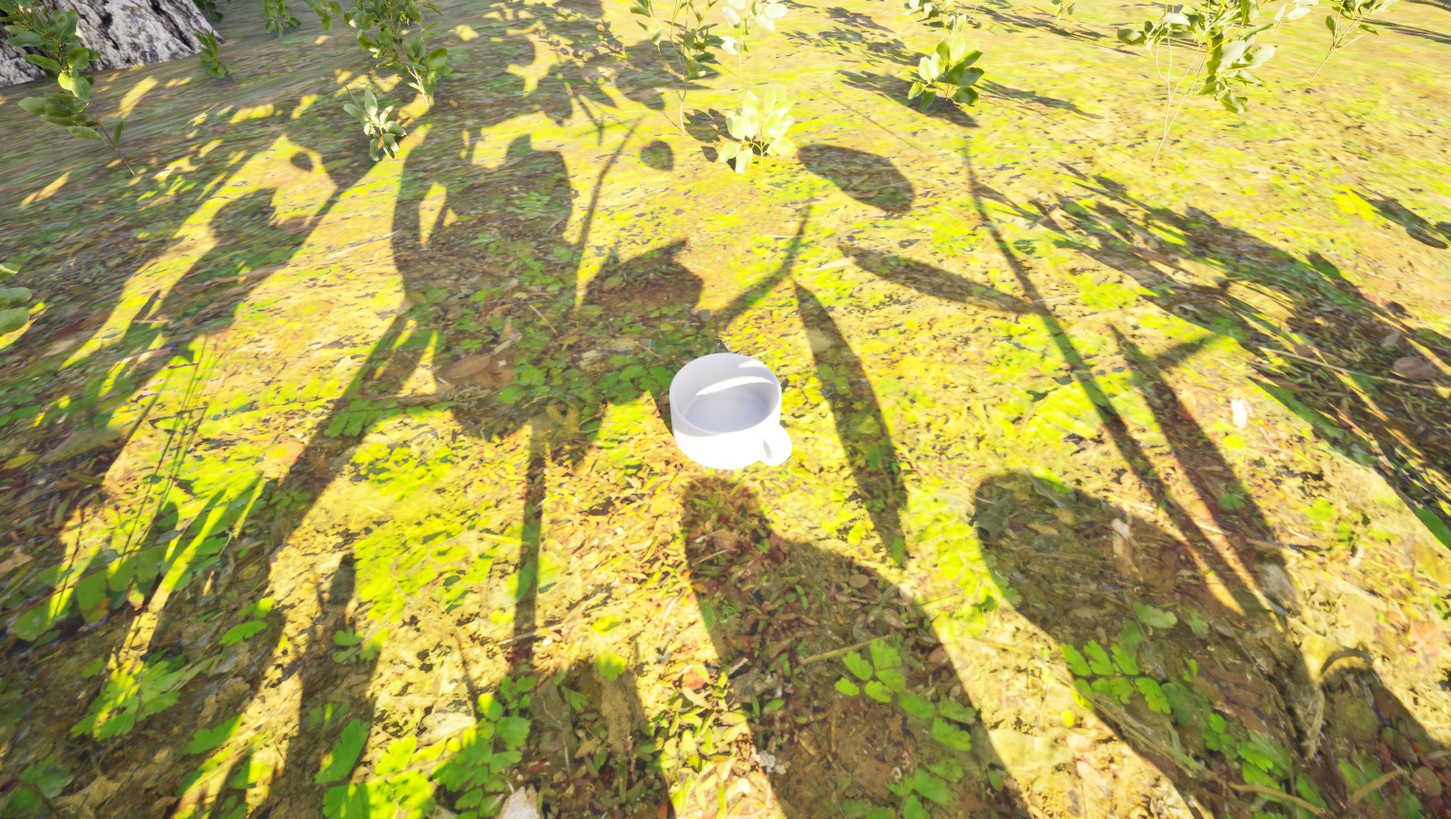Teacup: (662, 346, 800, 492)
